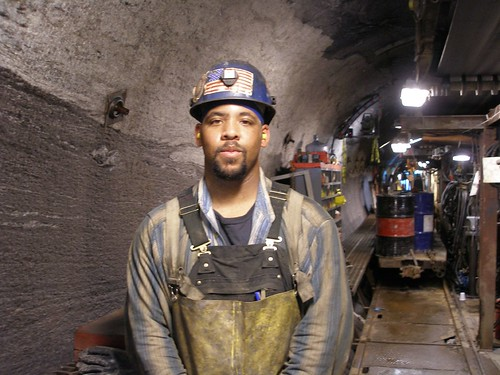person hardhat: (140, 57, 353, 375)
